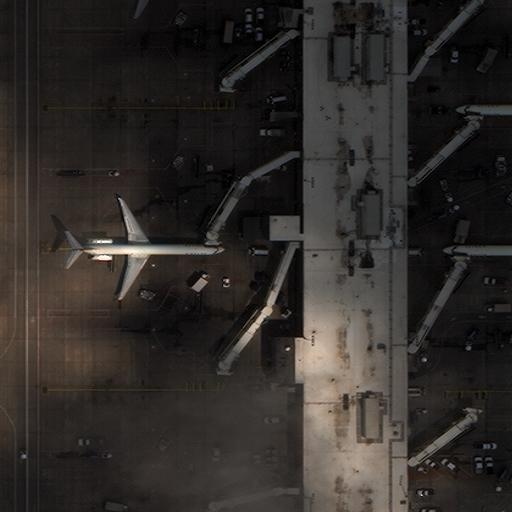Medium Civil Transport: (56, 198, 229, 298), (438, 215, 511, 285), (450, 81, 511, 138)
